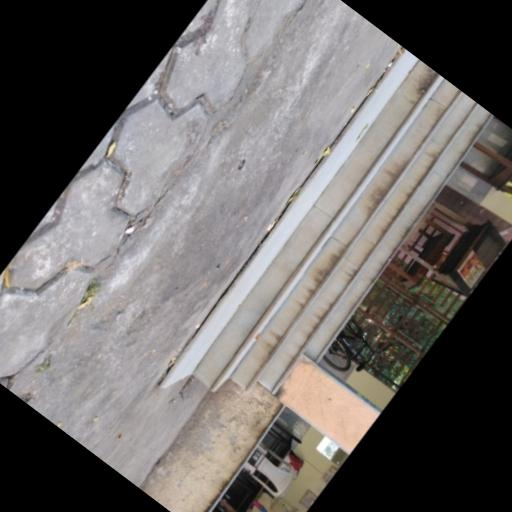stairs: (162, 54, 490, 391)
